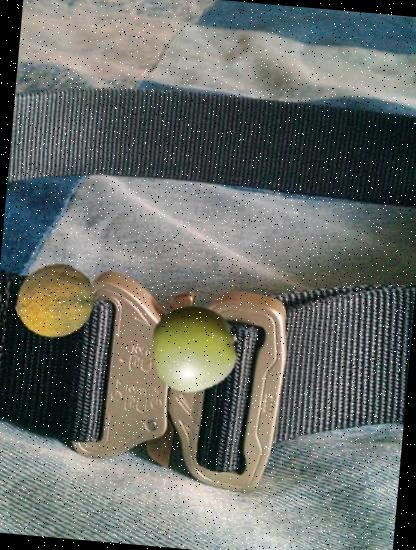Apple: (140, 298, 242, 401)
Cantaloupe: (12, 258, 98, 344)
